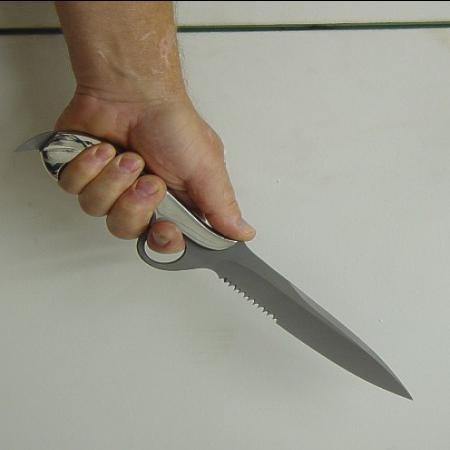long weapon: (89, 140, 421, 403)
